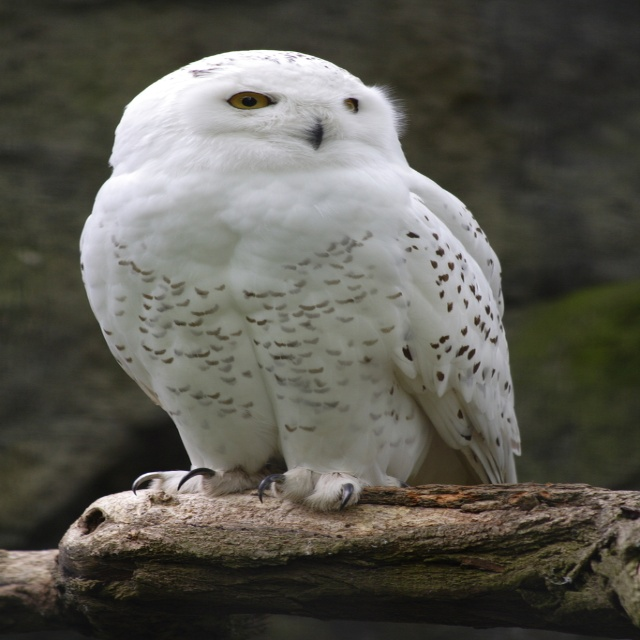Owl: (75, 45, 527, 514)
